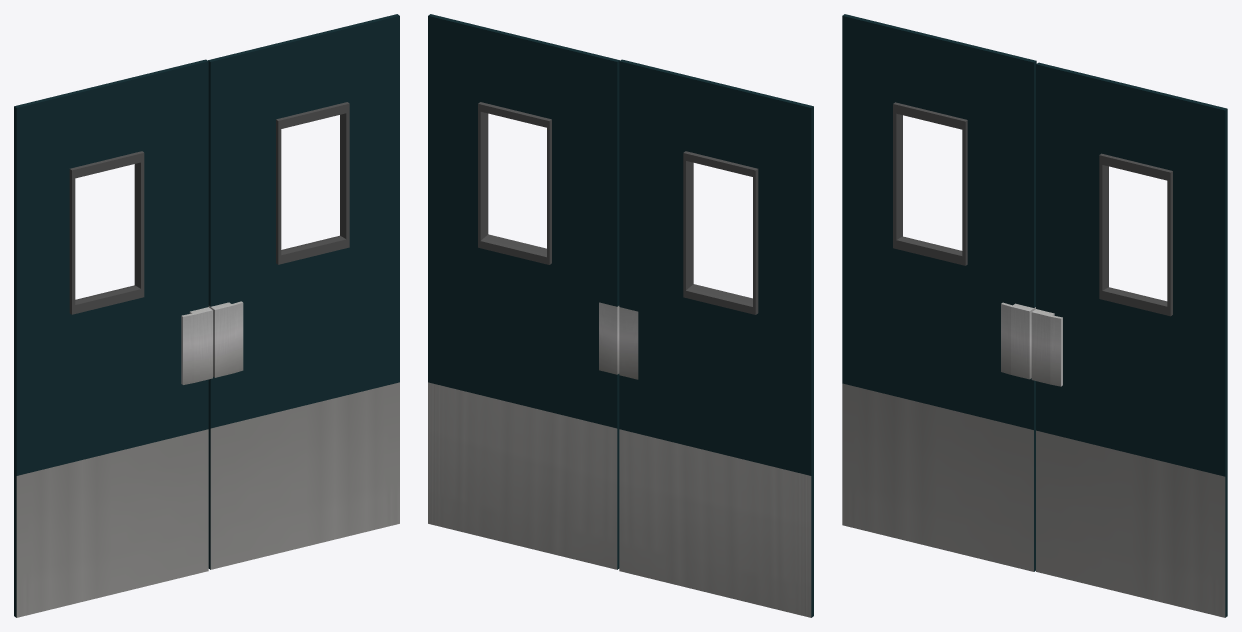
File: porte_2.fbx
The picture shows the model from 3 angles, left to right: view 1: azimuth 30°, elevation 25°; view 2: azimuth 150°, elevation 25°; view 3: azimuth 330°, elevation 25°; orthographic projection.
Visible parts, largest first — view 1: porte_2, porte_1; view 2: porte_2, porte_1; view 3: porte_2, porte_1.
Part boxes in pixels (left/top/right/bottom): porte_2: left=14, top=59, right=212, bottom=617; porte_1: left=208, top=14, right=399, bottom=569; porte_2: left=619, top=59, right=813, bottom=617; porte_1: left=428, top=14, right=619, bottom=569; porte_2: left=842, top=14, right=1036, bottom=571; porte_1: left=1031, top=62, right=1227, bottom=617.
Size of the model in its own units: 258 by 328 by 10.88.
